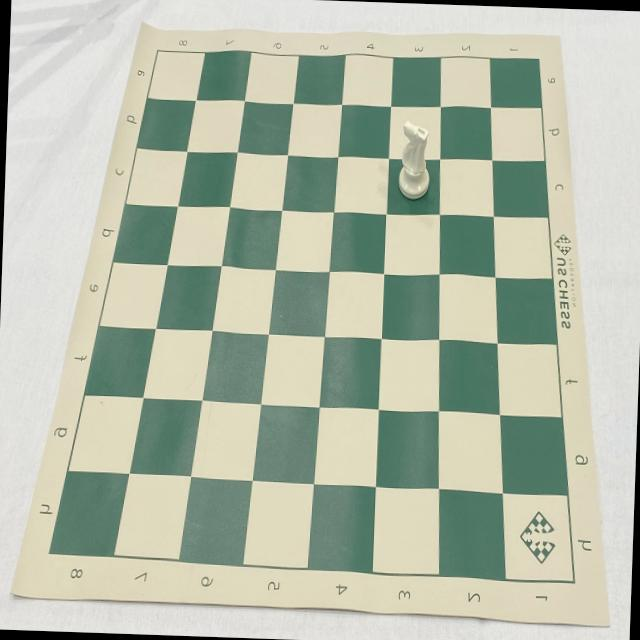white-knight: (396, 120, 432, 199)
